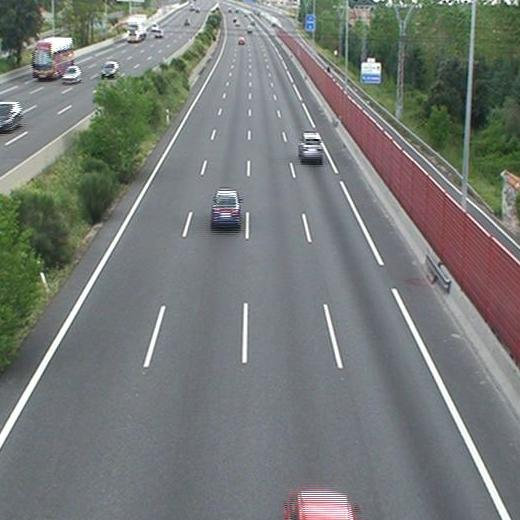car: (212, 190, 240, 227), (299, 133, 322, 161), (237, 37, 245, 44)
